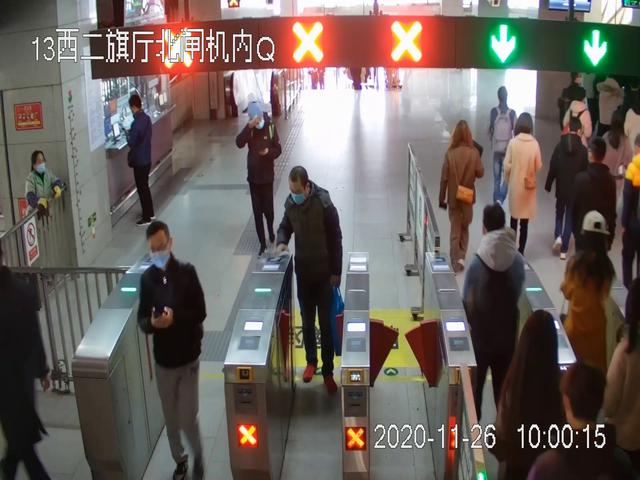person: (139, 222, 206, 480), (462, 204, 528, 450), (277, 167, 346, 392), (561, 209, 622, 423), (489, 311, 564, 480), (437, 120, 485, 272), (237, 102, 283, 257), (575, 138, 618, 296), (546, 119, 594, 258), (501, 112, 541, 255), (486, 85, 520, 209), (124, 94, 154, 225), (25, 150, 62, 253), (563, 88, 592, 199)
